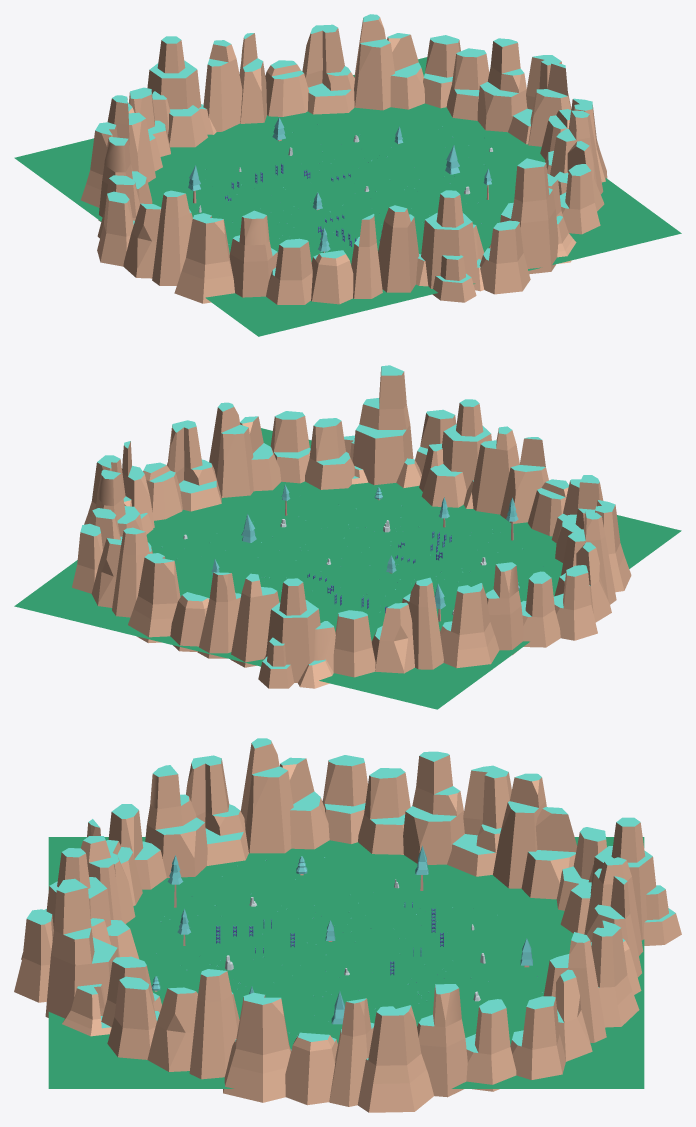
File: decorations.glb
3 renders of one model, top to bottom at view 1: azimuth 30°, elevation 25°; view 2: azimuth 150°, elevation 25°; view 3: azimuth 270°, elevation 25°, orthographic. The views are drawn at different scales.
Parts seen in each view (by area): view 1: Plane, rock_tallB, rock_tallA, rock_tallB.001, rock_tallH, rock_tallH.002, rock_tallG.002, rock_tallI.002, rock_tallG, rock_tallC, rock_tallI, rock_tallC.001 (+23 smaller); view 2: Plane, rock_tallB.001, rock_tallA, rock_tallB, rock_tallH.001, rock_tallI.003, rock_tallH.002, rock_tallH.004, rock_tallC.001, rock_tallC, rock_tallF.009, rock_tallD.001 (+25 smaller); view 3: Plane, rock_tallA, rock_tallH.003, rock_tallH.004, rock_tallB.001, rock_tallG.001, rock_tallI, rock_tallG, rock_tallH.001, rock_tallH, rock_tallI.003, rock_tallG.002 (+24 smaller).
Boxes of the visible parts, bbox=[...] form: Plane: bbox=[14, 57, 681, 336]; rock_tallB: bbox=[416, 190, 484, 302]; rock_tallA: bbox=[489, 158, 576, 274]; rock_tallB.001: bbox=[147, 36, 216, 147]; rock_tallH: bbox=[174, 213, 234, 303]; rock_tallH.002: bbox=[302, 24, 354, 114]; rock_tallG.002: bbox=[477, 38, 527, 132]; rock_tallI.002: bbox=[354, 14, 394, 110]; rock_tallG: bbox=[229, 210, 277, 297]; rock_tallC: bbox=[378, 205, 418, 292]; rock_tallI: bbox=[152, 190, 192, 285]; rock_tallC.001: bbox=[203, 40, 242, 131]; Plane: bbox=[14, 428, 681, 709]; rock_tallB.001: bbox=[258, 578, 335, 688]; rock_tallA: bbox=[344, 365, 421, 488]; rock_tallB: bbox=[419, 399, 491, 508]; rock_tallH.001: bbox=[440, 583, 499, 669]; rock_tallI.003: bbox=[209, 402, 253, 497]; rock_tallH.002: bbox=[128, 553, 180, 643]; rock_tallH.004: bbox=[167, 420, 221, 511]; rock_tallC.001: bbox=[230, 573, 279, 667]; rock_tallC: bbox=[471, 426, 519, 514]; rock_tallF.009: bbox=[305, 418, 354, 489]; rock_tallD.001: bbox=[197, 572, 241, 658]; Plane: bbox=[48, 837, 644, 1088]; rock_tallA: bbox=[45, 878, 118, 1036]; rock_tallH.003: bbox=[357, 1005, 433, 1112]; rock_tallH.004: bbox=[223, 992, 291, 1102]; rock_tallB.001: bbox=[560, 817, 681, 945]; rock_tallG.001: bbox=[403, 751, 464, 864]; rock_tallI: bbox=[241, 738, 293, 853]; rock_tallG: bbox=[145, 765, 207, 877]; rock_tallH.001: bbox=[447, 765, 511, 876]; rock_tallH: bbox=[186, 755, 248, 865]; rock_tallI.003: bbox=[189, 969, 239, 1079]; rock_tallG.002: bbox=[417, 984, 467, 1097].
Size of the model in its own units: 166 by 33.79 by 161.
71 materials, 1 textured.
